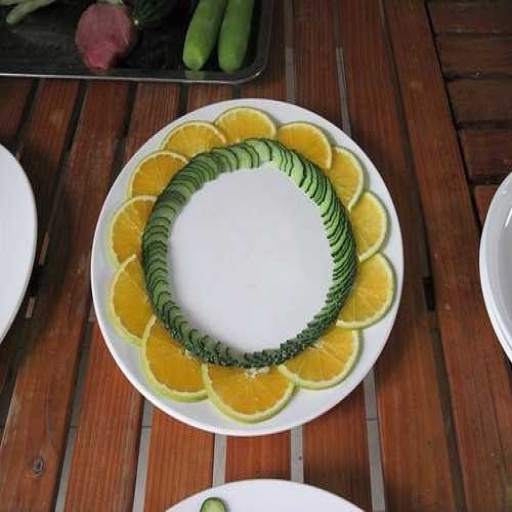piring: (89, 97, 404, 437)
